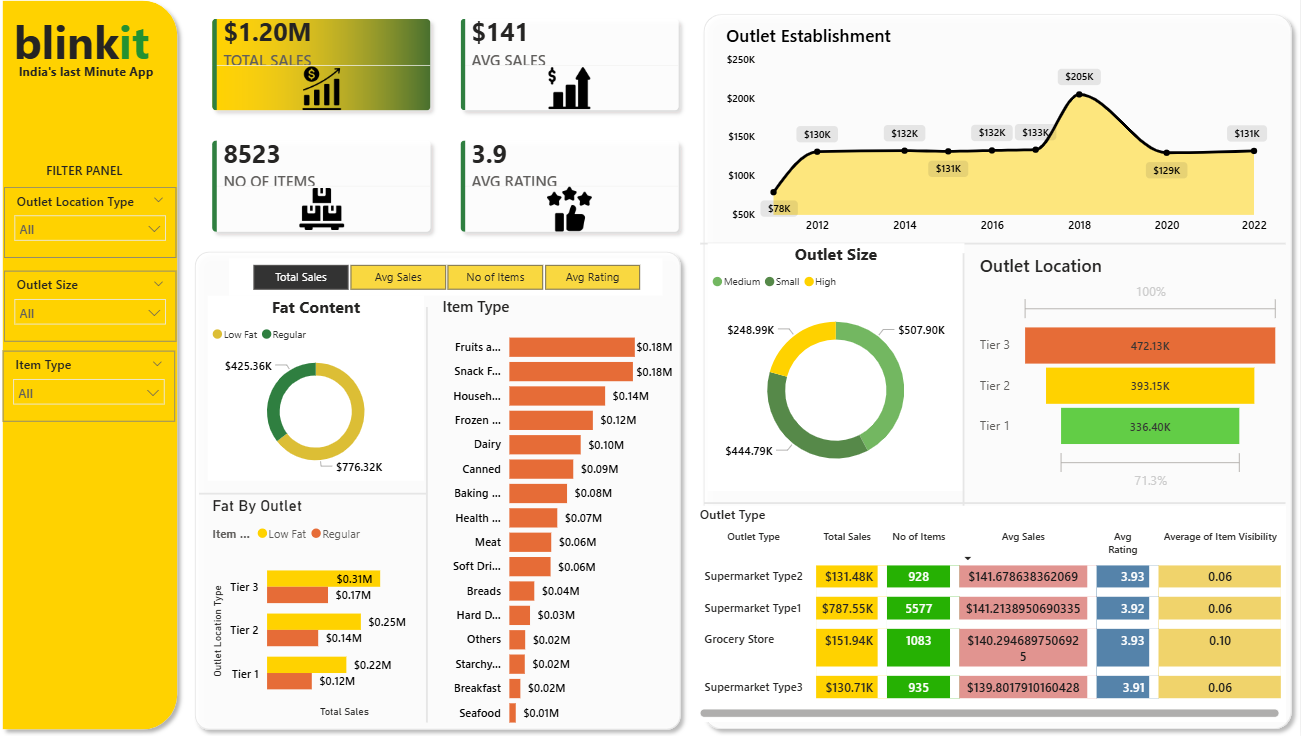

Layout of this report page (visuals, bound fields, positions):
{"tool":"powerbi","page":{"name":"Page 1","canvas":[1400,800],"ordinal":0},"visuals":[{"type":"shape","box":[0,0,205.6,800],"z":0},{"type":"textbox","box":[16.5,15,172.6,85.5],"z":1000},{"type":"textbox","box":[21,70.5,166.6,30],"z":2000},{"type":"cardVisual","fields":{"Data":["BlinkIT Grocery Data.Total Sales","BlinkIT Grocery Data.Avg Sales","BlinkIT Grocery Data.No of Items","BlinkIT Grocery Data.Avg Rating"]},"box":[205.6,0,559.7,286.1],"z":3000},{"type":"shape","box":[206.9,269.4,538.9,530.6],"z":4000},{"type":"donutChart","title":"Fat Content","fields":{"Y":["BlinkIT Grocery Data.Total Sales"],"Category":["BlinkIT Grocery Data.Item Fat Content"]},"box":[229.2,326.4,231.9,198.6],"z":5000},{"type":"slicer","fields":{"Values":["Matrics.Matrics"]},"box":[252,285.5,465.1,40.2],"z":6000},{"type":"clusteredBarChart","title":"Fat By Outlet","fields":{"Y":["BlinkIT Grocery Data.Total Sales"],"Category":["BlinkIT Grocery Data.Outlet Location Type"],"Series":["BlinkIT Grocery Data.Item Fat Content"]},"box":[229.2,540.3,234.7,243.1],"z":7000},{"type":"shape","box":[219.4,523.6,244.4,27.8],"z":8000},{"type":"shape","box":[451.4,337.5,25,445.8],"z":9000},{"type":"barChart","title":"Item Type","fields":{"Y":["BlinkIT Grocery Data.Total Sales"],"Category":["BlinkIT Grocery Data.Item Type"]},"box":[476.4,326.4,256.9,473.6],"z":10000},{"type":"shape","box":[751.4,15.3,648.6,784.7],"z":11000},{"type":"lineChart","title":" Outlet Establishment","fields":{"Category":["BlinkIT Grocery Data.Outlet Establishment Year"],"Y":["BlinkIT Grocery Data.Total Sales"]},"box":[780.6,33.3,590.3,234.7],"z":12000},{"type":"shape","box":[756.9,258.3,627.8,22.2],"z":13000},{"type":"donutChart","title":"Outlet Size","fields":{"Y":["BlinkIT Grocery Data.Total Sales"],"Category":["BlinkIT Grocery Data.Outlet Size"]},"box":[765.3,269.4,275,265.3],"z":14000},{"type":"shape","box":[1033.3,280.6,12.5,443.1],"z":15000},{"type":"funnel","title":"Outlet Location","fields":{"Category":["BlinkIT Grocery Data.Outlet Location Type"],"Y":["Sum(BlinkIT Grocery Data.Sales)"]},"box":[1052.8,280.6,331.9,259.7],"z":16000},{"type":"shape","box":[761.1,534.7,623.6,26.4],"z":17000},{"type":"pivotTable","title":"Outlet Type","fields":{"Values":["BlinkIT Grocery Data.Total Sales","BlinkIT Grocery Data.No of Items","BlinkIT Grocery Data.Avg Sales","BlinkIT Grocery Data.Avg Rating","Avg(BlinkIT Grocery Data.Item Visibility)"],"Rows":["BlinkIT Grocery Data.Outlet Type"]},"box":[751.4,551.4,633.3,231.9],"z":18000},{"type":"slicer","fields":{"Values":["BlinkIT Grocery Data.Outlet Location Type"]},"box":[11.1,209.7,184.7,76.4],"z":19000},{"type":"slicer","fields":{"Values":["BlinkIT Grocery Data.Outlet Size"]},"box":[11.1,298.6,184.7,76.4],"z":20000},{"type":"slicer","fields":{"Values":["BlinkIT Grocery Data.Item Type"]},"box":[9.7,384.7,184.7,76.4],"z":21000},{"type":"textbox","box":[51.4,176.4,105.6,33.3],"z":22000}]}

Visuals, with their boxes in screenshot pixels (x1, y1, x2, y2), scaled from the page's 1400x800 canvas onto the 1301x736 screenshot:
shape: 0, 0, 191, 735
textbox: 15, 14, 176, 92
textbox: 20, 65, 174, 92
cardVisual - BlinkIT Grocery Data.Total Sales x BlinkIT Grocery Data.Avg Sales: 191, 0, 711, 263
shape: 192, 248, 693, 735
"Fat Content" donutChart: 213, 300, 428, 483
slicer - Matrics.Matrics: 234, 263, 666, 300
"Fat By Outlet" clusteredBarChart: 213, 497, 431, 721
shape: 204, 482, 431, 507
shape: 419, 310, 443, 721
"Item Type" barChart: 443, 300, 681, 735
shape: 698, 14, 1300, 735
" Outlet Establishment" lineChart: 725, 31, 1274, 247
shape: 703, 238, 1287, 258
"Outlet Size" donutChart: 711, 248, 967, 492
shape: 960, 258, 972, 666
"Outlet Location" funnel: 978, 258, 1287, 497
shape: 707, 492, 1287, 516
"Outlet Type" pivotTable: 698, 507, 1287, 721
slicer - BlinkIT Grocery Data.Outlet Location Type: 10, 193, 182, 263
slicer - BlinkIT Grocery Data.Outlet Size: 10, 275, 182, 345
slicer - BlinkIT Grocery Data.Item Type: 9, 354, 181, 424
textbox: 48, 162, 146, 193
